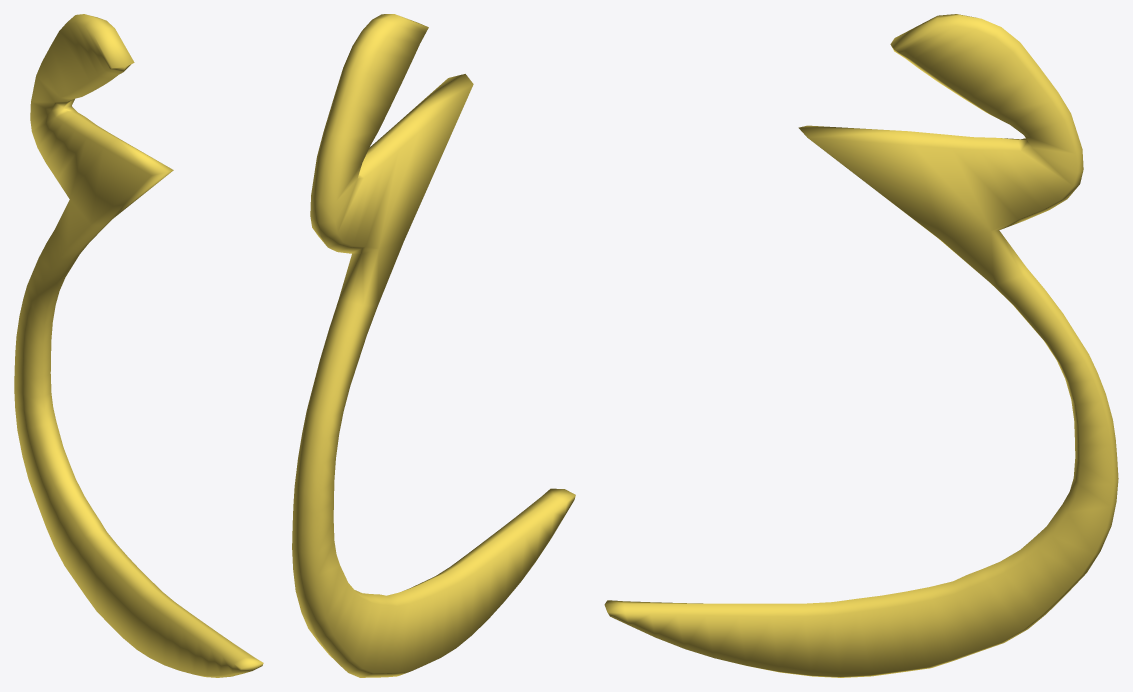
Rendered from ayn.FBX.
3 views of the same model, side by side, from view 1: azimuth 30°, elevation 25°; view 2: azimuth 150°, elevation 25°; view 3: azimuth 270°, elevation 25° (orthographic). The views are drawn at different scales.
Visible parts, largest first — view 1: ayn; view 2: ayn; view 3: ayn.
Boxes of the visible parts, bbox=[...] form: ayn: bbox=[14, 14, 263, 677]; ayn: bbox=[292, 14, 575, 677]; ayn: bbox=[604, 14, 1118, 677].
Size of the model in its own units: 7.54 by 135 by 191.
1 material, 1 textured.
